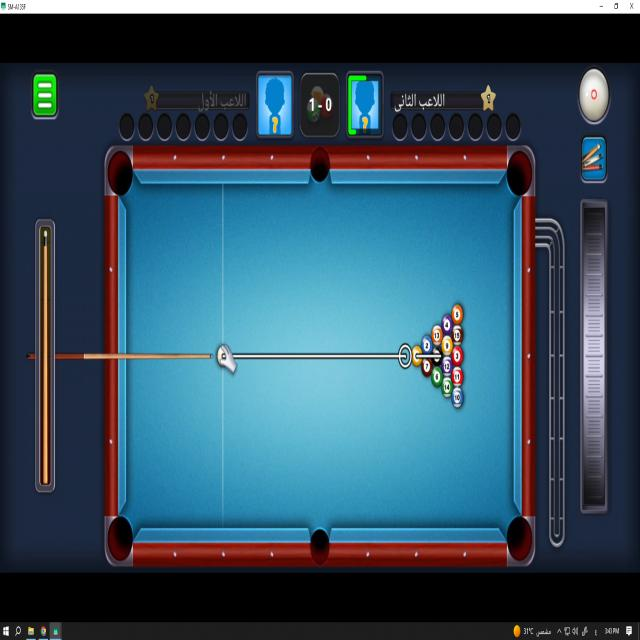object_ball: (431, 367, 443, 387), (441, 357, 453, 376), (442, 315, 453, 335), (451, 346, 462, 366), (412, 345, 422, 367), (442, 377, 453, 397), (421, 359, 433, 377), (441, 336, 453, 354), (431, 326, 442, 345), (452, 367, 463, 386), (452, 387, 462, 407), (452, 304, 462, 324), (421, 335, 432, 353), (452, 326, 462, 345), (432, 347, 442, 366)
white_cue_ball: (216, 345, 230, 368)
